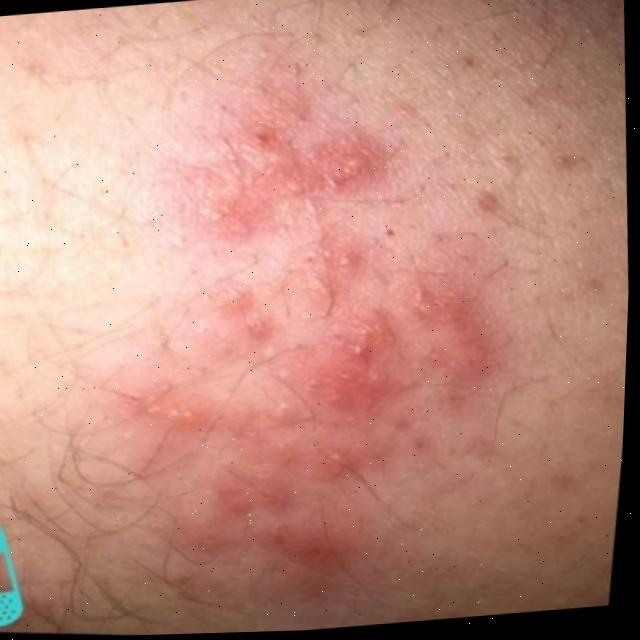Shingles: (109, 83, 503, 584)
